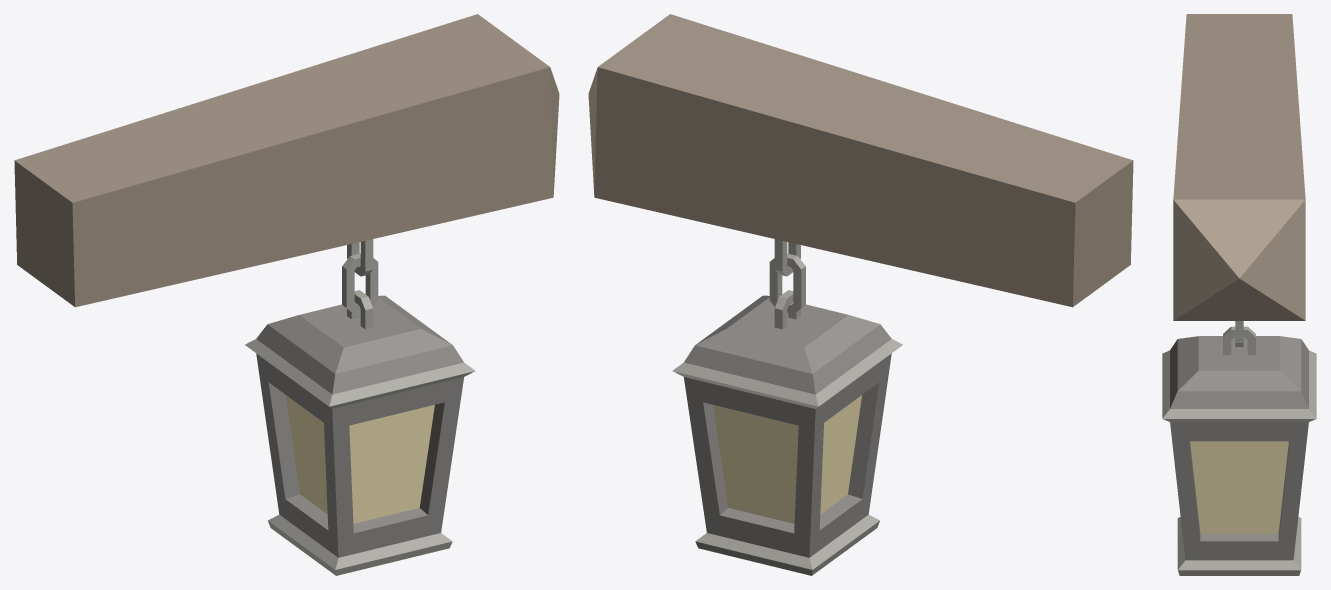
The model's file is Wall_Prop_Lamp.glb.
3 renders of one model, left to right at view 1: azimuth 30°, elevation 25°; view 2: azimuth 150°, elevation 25°; view 3: azimuth 270°, elevation 25°, orthographic. The views are drawn at different scales.
Visible parts, largest first — view 1: object2, object4, object1, object6, object3; view 2: object2, object4, object1, object6, object3; view 3: object2, object4, object1, object7, object6.
Boxes of the visible parts, left/top/right/bottom form: object2: left=14, top=14, right=559, bottom=307; object4: left=245, top=295, right=475, bottom=575; object1: left=286, top=395, right=434, bottom=523; object6: left=342, top=253, right=378, bottom=314; object3: left=347, top=239, right=373, bottom=276; object2: left=588, top=14, right=1133, bottom=307; object4: left=672, top=295, right=902, bottom=575; object1: left=713, top=395, right=861, bottom=523; object6: left=769, top=253, right=805, bottom=314; object3: left=774, top=239, right=800, bottom=276; object2: left=1173, top=14, right=1305, bottom=320; object4: left=1162, top=336, right=1316, bottom=575; object1: left=1190, top=441, right=1288, bottom=533; object7: left=1223, top=326, right=1255, bottom=354; object6: left=1235, top=321, right=1243, bottom=346.
Size of the model in its own units: 0.8216 by 0.6999 by 0.2333.
